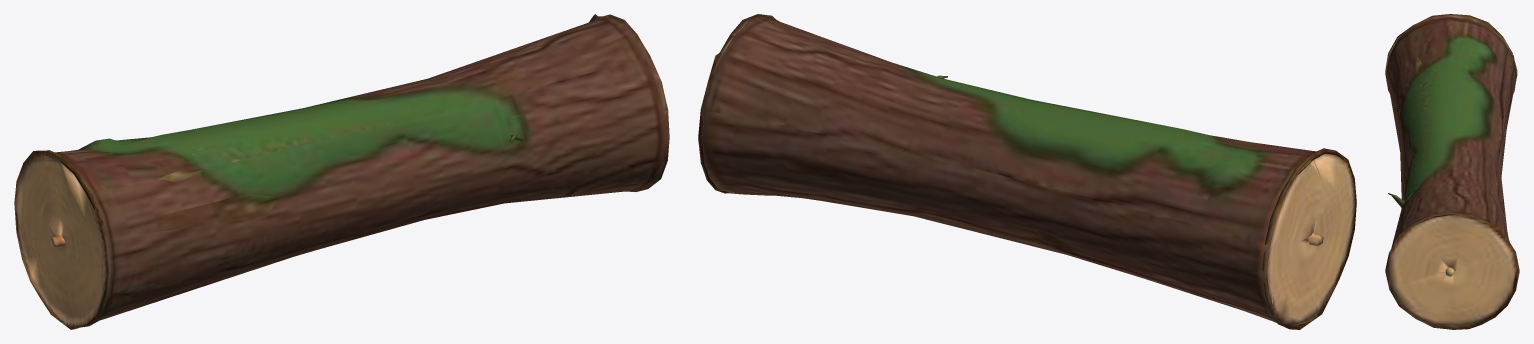
The model's file is Log.lod1.glb.
3 views of the same model, side by side, from view 1: azimuth 30°, elevation 25°; view 2: azimuth 150°, elevation 25°; view 3: azimuth 270°, elevation 25° (orthographic). The views are drawn at different scales.
Bounding box in the file's own units: 2.5 × 0.6836 × 0.6982.
Materials: 1 (1 with a texture image).
